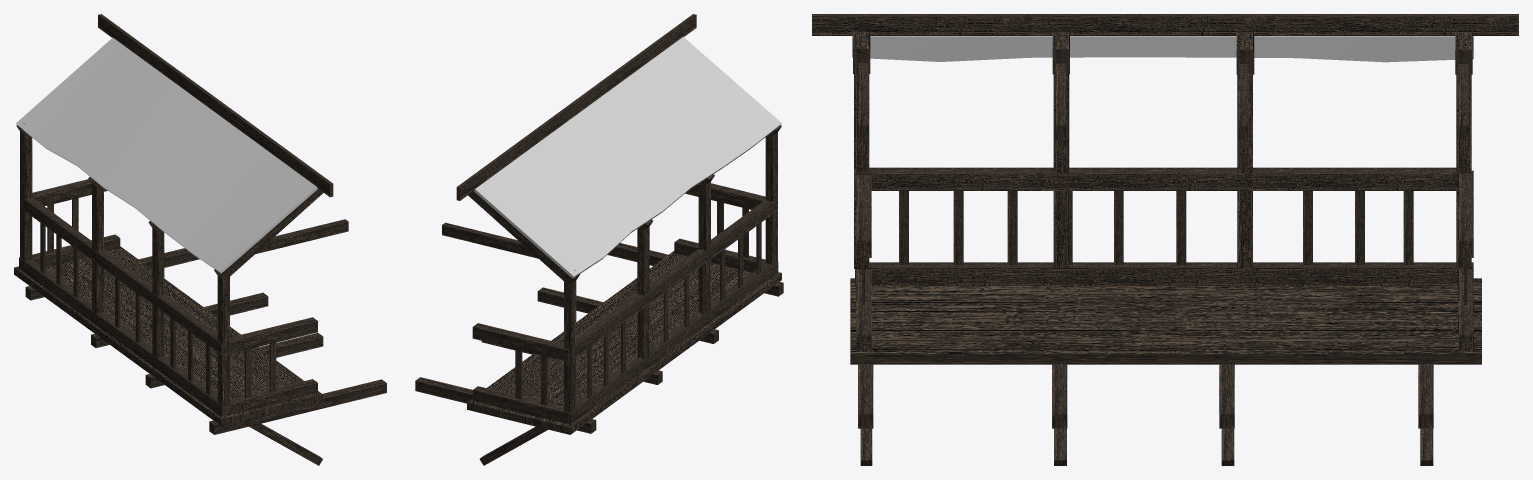
The model's file is balkony1.fbx.
3 renders of one model, left to right at view 1: azimuth 30°, elevation 25°; view 2: azimuth 150°, elevation 25°; view 3: azimuth 270°, elevation 25°, orthographic. The views are drawn at different scales.
Parts seen in each view (by area): view 1: Mesh Object; view 2: Mesh Object; view 3: Mesh Object.
Boxes of the visible parts, x1,y1,x2,y2 form: Mesh Object: [14, 14, 386, 465]; Mesh Object: [415, 14, 783, 465]; Mesh Object: [812, 14, 1518, 465].
Bounding box in the file's own units: 3.33 × 5.44 × 7.77.
